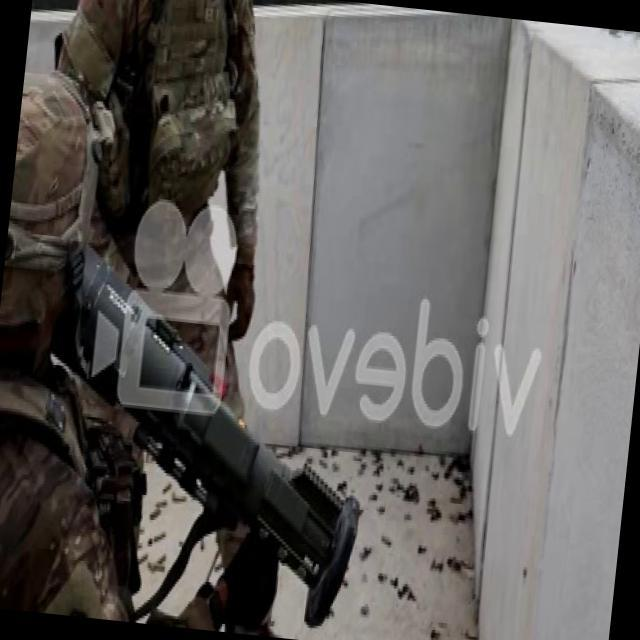rocket: (60, 258, 382, 638)
